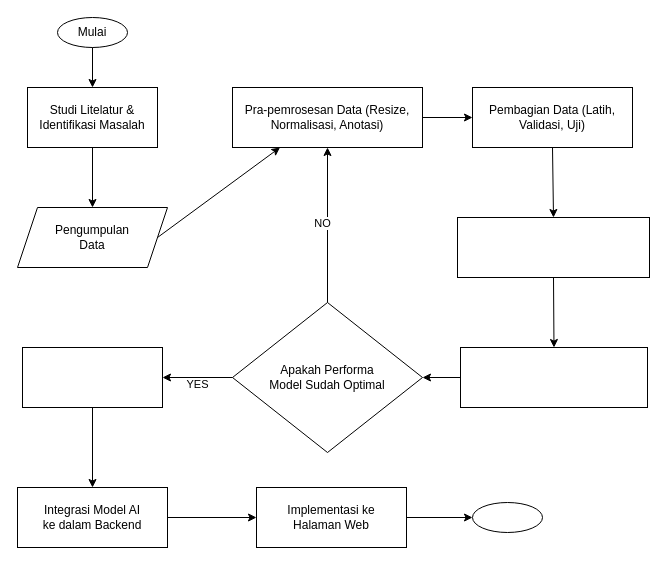
Some shapes in this 667 by 565 pixel diagram are drawn without their labels. Each missing label, with the centre of its shape:
"Evaluasi Model (Akurasi, mAP, Peresisi, Recall)" goes at point 554,377.
"Pelatihan Model YOLOv8 & ResNet-18" goes at point 553,247.
"Pengembangan Aplikasi Web" goes at point 92,377.
"Selesai" goes at point 507,517.
